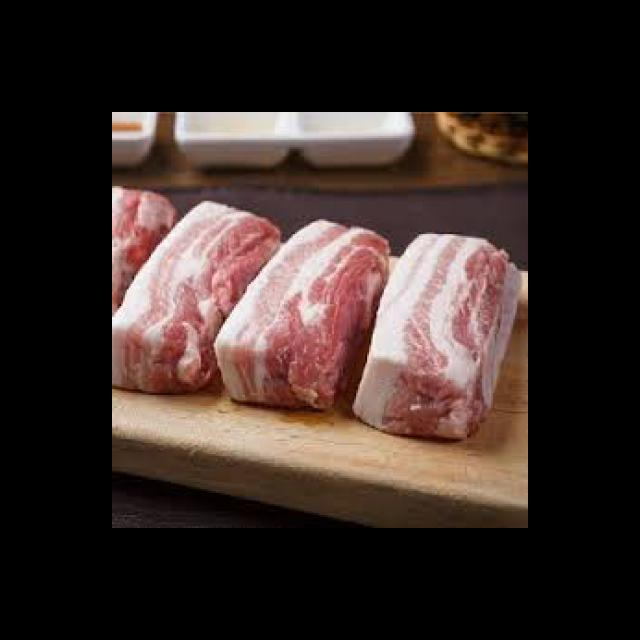pork: (362, 230, 518, 445), (132, 195, 271, 391), (242, 214, 376, 416)
